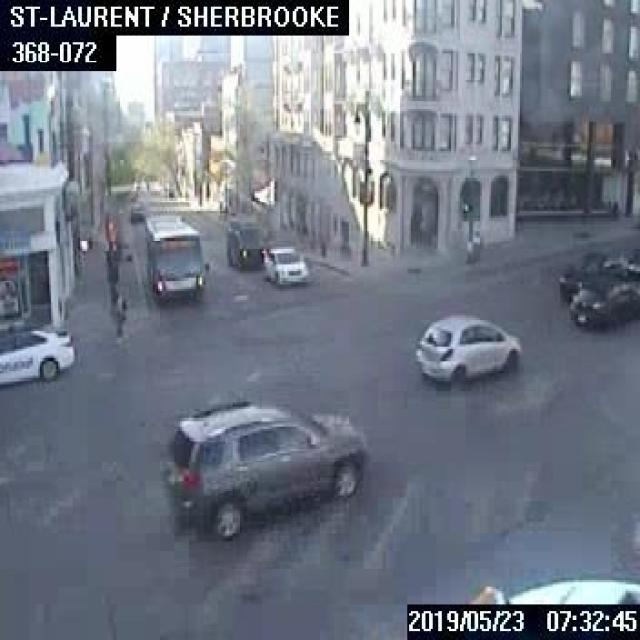bus: (144, 213, 206, 300)
pedestrian: (111, 288, 125, 338), (471, 229, 479, 259)
vehicle: (160, 398, 364, 533), (412, 309, 524, 382), (467, 571, 638, 602), (0, 324, 75, 384), (569, 270, 638, 331), (555, 251, 638, 298), (225, 212, 267, 266), (260, 245, 306, 282), (128, 200, 144, 220)
